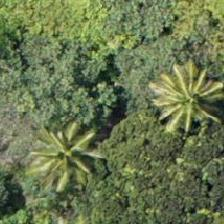coconut_tree: (21, 114, 111, 204), (137, 49, 223, 139)
